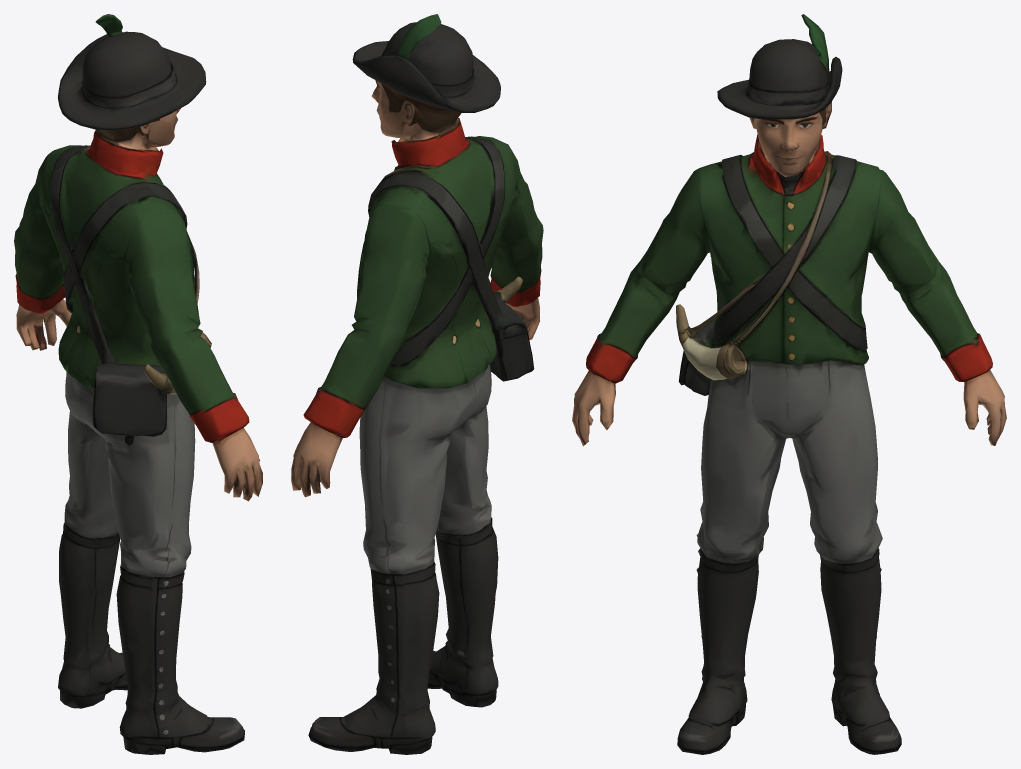
File: a41fcc69-ff9a-44eb-b478-dd2bba95665b_model_url.glb
3 views of the same model, side by side, from view 1: azimuth 30°, elevation 25°; view 2: azimuth 150°, elevation 25°; view 3: azimuth 270°, elevation 25° (orthographic).
Visible parts, largest first — view 1: tripo_node_a41fcc69-ff9a-44eb-b478-dd2bba95665b; view 2: tripo_node_a41fcc69-ff9a-44eb-b478-dd2bba95665b; view 3: tripo_node_a41fcc69-ff9a-44eb-b478-dd2bba95665b.
Boxes of the visible parts, x1,y1,x2,y2 form: tripo_node_a41fcc69-ff9a-44eb-b478-dd2bba95665b: (14,14,262,754); tripo_node_a41fcc69-ff9a-44eb-b478-dd2bba95665b: (291,14,543,754); tripo_node_a41fcc69-ff9a-44eb-b478-dd2bba95665b: (572,14,1006,754).
Bounding box in the file's own units: 0.206 × 1 × 0.5613.
1 material, 1 textured.
